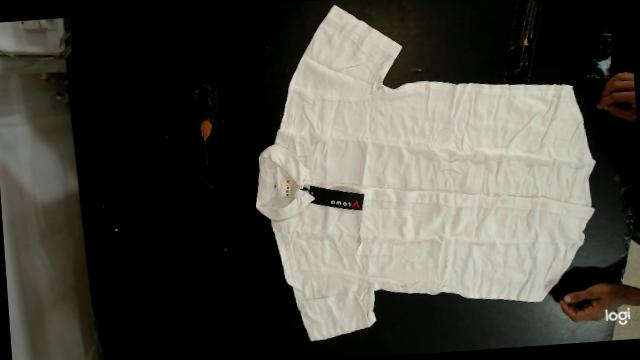new-garment: (256, 5, 594, 340)
